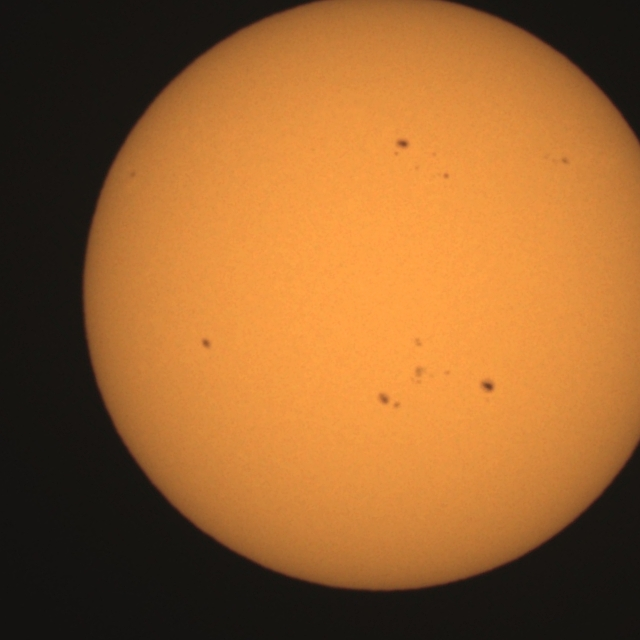sunspot: (376, 392, 402, 410), (410, 366, 431, 386), (392, 137, 411, 157), (478, 378, 496, 396), (200, 336, 213, 351), (412, 336, 424, 349), (128, 169, 138, 180), (560, 156, 570, 166), (441, 171, 450, 181), (443, 368, 452, 377)
